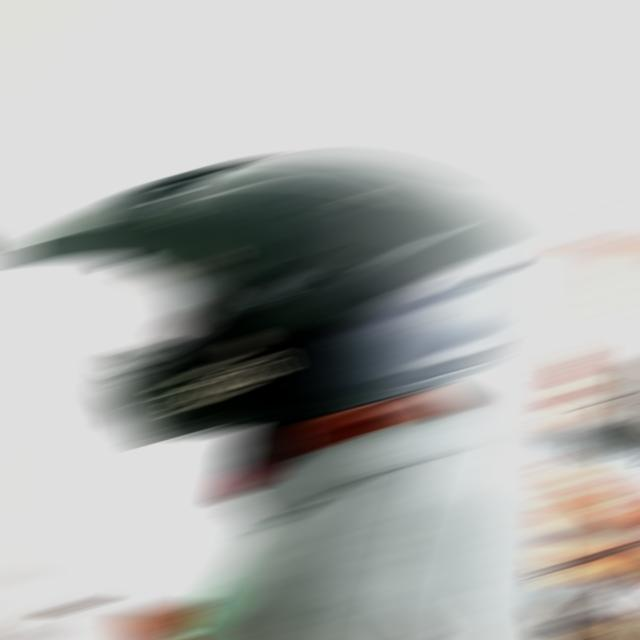With Helmet: (9, 157, 524, 440)
